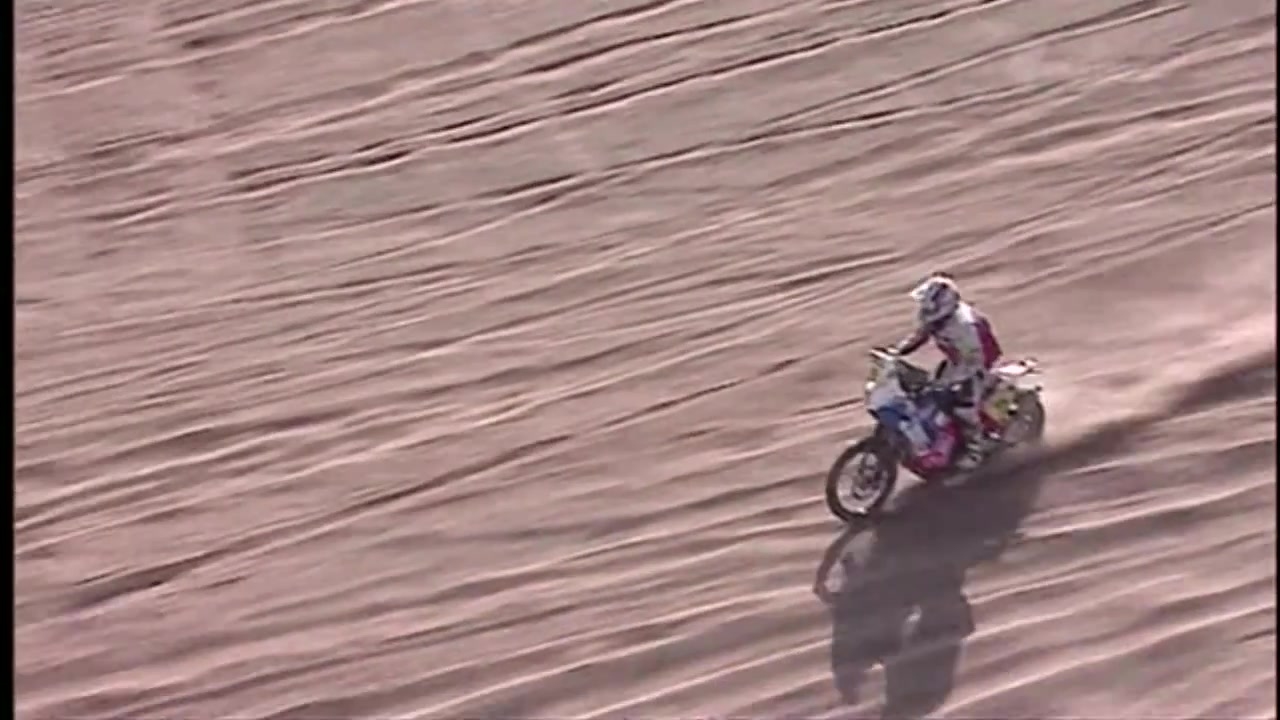motorbike: (823, 347, 1048, 531)
